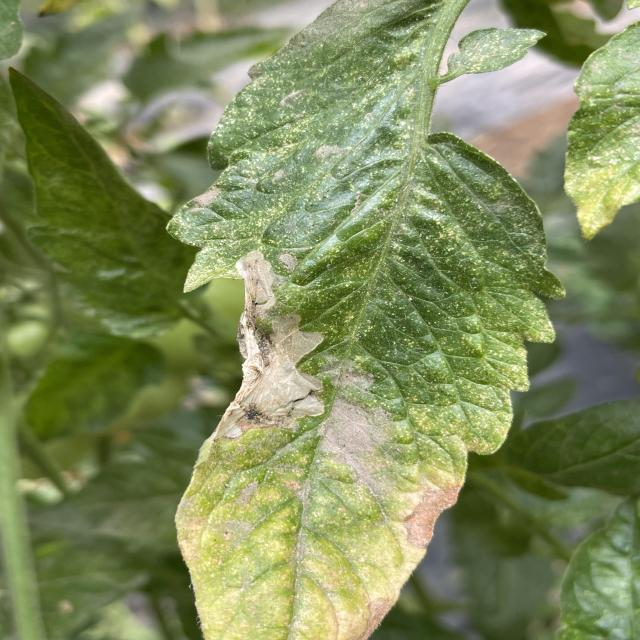Tuta absoluta: (213, 314, 324, 441), (232, 249, 280, 324)
